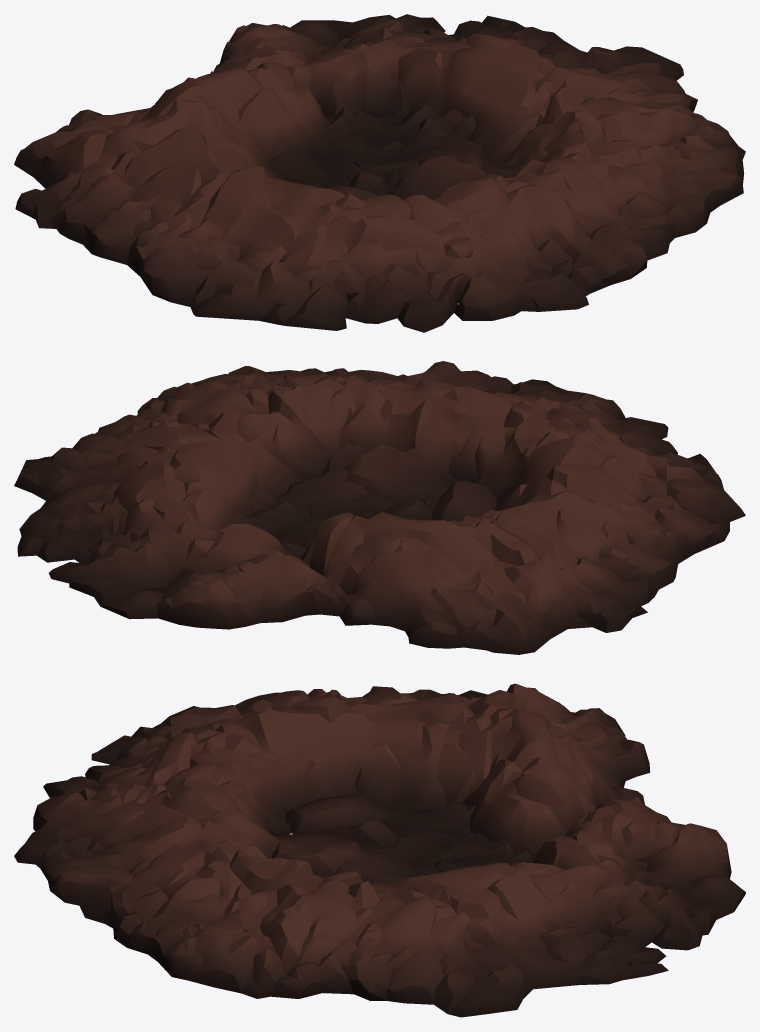
File: Crater.glb
The picture shows the model from 3 angles, top to bottom: view 1: azimuth 30°, elevation 25°; view 2: azimuth 150°, elevation 25°; view 3: azimuth 270°, elevation 25°; orthographic projection. The views are drawn at different scales.
Visible parts, largest first — view 1: Crater.col; view 2: Crater.col; view 3: Crater.col.
Boxes of the visible parts, <box> form: Crater.col: <box>14,14,745,332</box>; Crater.col: <box>14,361,745,654</box>; Crater.col: <box>14,683,745,1017</box>.
Bounding box in the file's own units: 7.32 × 0.8083 × 7.05.
Materials: 1 (1 with a texture image).
